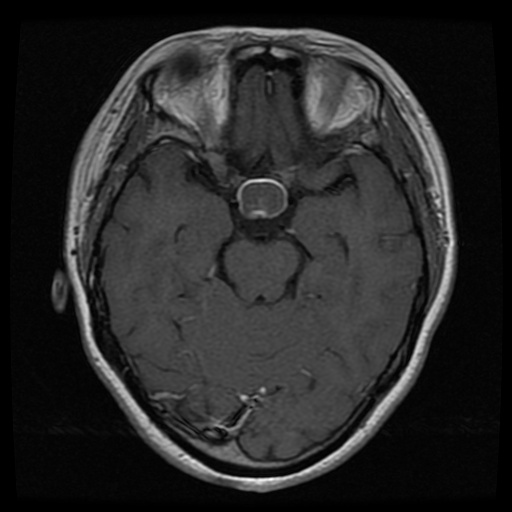pituitary: (236, 177, 287, 216)
